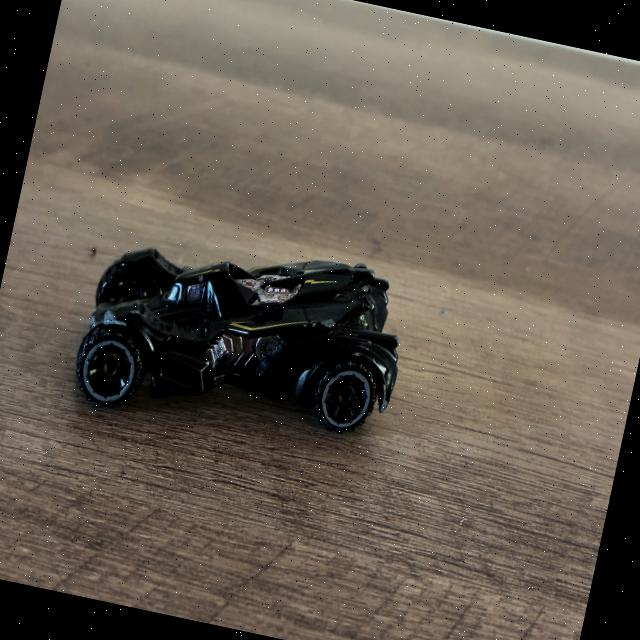cars: (77, 248, 398, 431)
